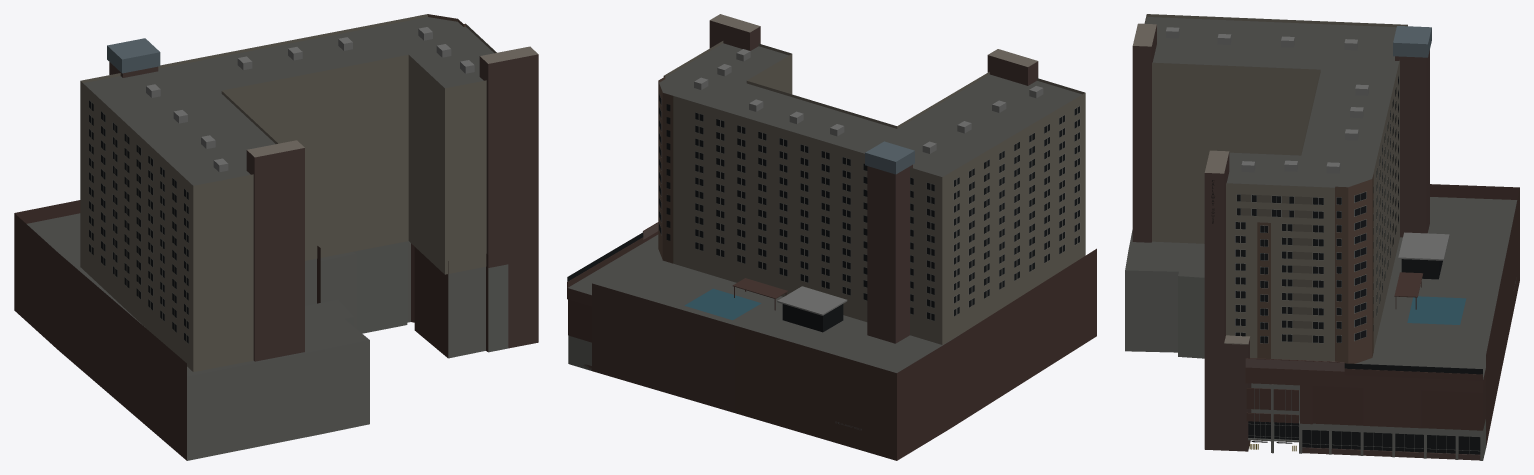
Rendered from the-callaway-house-look.glb.
3 renders of one model, left to right at view 1: azimuth 30°, elevation 25°; view 2: azimuth 150°, elevation 25°; view 3: azimuth 270°, elevation 25°, orthographic. The views are drawn at different scales.
Parts seen in each view (by area): view 1: n_wall_beige, n_concrete, n_wall_brick, n_roof_tower, n_screen_louvre_red, n_roof_deck, n_glass_window, n_frame_white, n_roof_unit_white, n_metal_pale_blue, n_coping_stone; view 2: n_wall_beige, n_screen_louvre_red, n_roof_tower, n_roof_deck, n_glass_window, n_wall_brick, n_frame_white, n_roof_unit_white, n_wall_terracotta, n_water_pool, n_metal_pale_blue, n_glass_storefront (+3 smaller); view 3: n_wall_beige, n_roof_tower, n_wall_brick, n_roof_deck, n_screen_louvre_red, n_concrete, n_wall_terracotta, n_screen_fins_red, n_glass_window, n_glass_storefront, n_frame_white, n_roof_unit_white (+9 smaller).
Part boxes in pixels (box(x1,y1,x2,y2)): n_wall_beige: box(80, 14, 496, 371); n_concrete: box(187, 241, 508, 460); n_wall_brick: box(109, 54, 538, 361); n_roof_tower: box(83, 17, 493, 185); n_screen_louvre_red: box(14, 200, 488, 460); n_roof_deck: box(27, 213, 490, 376); n_glass_window: box(89, 100, 188, 343); n_frame_white: box(89, 100, 188, 343); n_roof_unit_white: box(146, 27, 474, 172); n_metal_pale_blue: box(107, 38, 160, 73); n_coping_stone: box(247, 46, 537, 157); n_wall_beige: box(664, 41, 1085, 344); n_screen_louvre_red: box(567, 237, 1096, 460); n_roof_tower: box(659, 43, 1082, 176); n_roof_deck: box(568, 234, 958, 372); n_glass_window: box(659, 94, 1079, 320); n_wall_brick: box(583, 20, 1038, 370); n_frame_white: box(659, 94, 1080, 320); n_roof_unit_white: box(694, 49, 1043, 315); n_wall_terracotta: box(658, 76, 673, 263); n_water_pool: box(684, 288, 761, 320); n_metal_pale_blue: box(865, 141, 914, 174); n_glass_storefront: box(782, 304, 843, 332); n_wall_beige: box(1144, 14, 1407, 361); n_roof_tower: box(1145, 17, 1399, 187); n_wall_brick: box(1132, 25, 1480, 460); n_roof_deck: box(1125, 197, 1517, 379); n_screen_louvre_red: box(1246, 184, 1519, 447); n_concrete: box(1125, 270, 1485, 460); n_wall_terracotta: box(1257, 174, 1373, 363); n_screen_fins_red: box(1245, 358, 1485, 428); n_glass_window: box(1235, 76, 1398, 343); n_glass_storefront: box(1248, 259, 1480, 454); n_frame_white: box(1235, 75, 1398, 343); n_roof_unit_white: box(1166, 27, 1449, 260).
Bounding box in the file's own units: 85.68 × 57.56 × 74.36.
